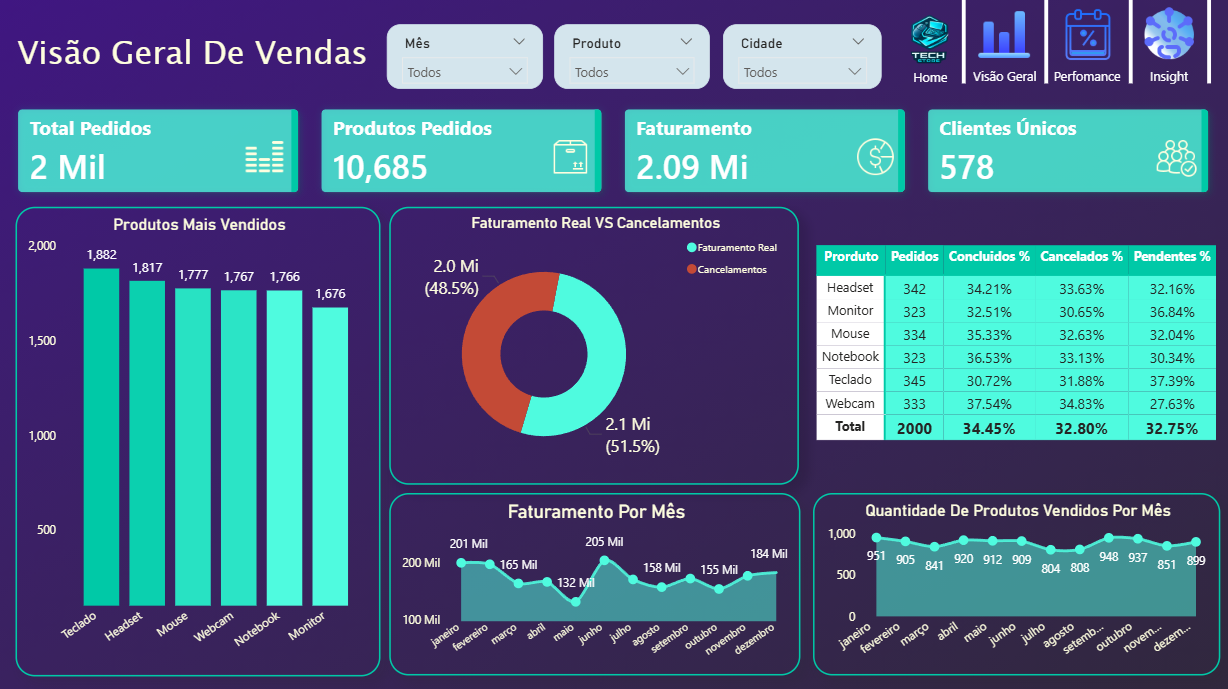

This screenshot's page, from the dashboard's own definition file:
{"tool":"powerbi","page":{"name":"Visao Geral","canvas":[1280,720],"ordinal":1},"visuals":[{"type":"image","box":[778.4,0,379.6,89.2],"z":0,"group":"g2"},{"type":"group","id":"g1","title":"Grupo 2","box":[404.1,27,535.1,67.6],"z":0,"group":"g3"},{"type":"slicer","fields":{"Values":["dados_vendas_2000.data.Variation.Hierarquia de datas.Mês"]},"box":[404.1,27,162.3,67.6],"z":0,"group":"g1"},{"type":"columnChart","title":"Produtos Mais Vendidos","fields":{"Category":["dados_vendas_2000.produto"],"Y":["Tabela.quantidade_vendas_produto"]},"box":[18.8,216.3,378.8,487.7],"z":0},{"type":"image","box":[1013.4,0,64.8,75.7],"z":1000,"group":"g2"},{"type":"slicer","fields":{"Values":["dados_vendas_2000.cidade"]},"box":[752.9,27,165,66.8],"z":1000,"group":"g1"},{"type":"donutChart","title":"Faturamento Real VS Cancelamentos","fields":{"Y":["Tabela.faturamento","Tabela.faturamento_perdido"]},"box":[407.1,216.3,425.9,288.8],"z":1000},{"type":"shape","box":[983.7,0,40.5,89.2],"z":2000,"group":"g2"},{"type":"slicer","fields":{"Values":["dados_vendas_2000.produto"]},"box":[577.6,27,161.6,66.8],"z":2000,"group":"g1"},{"type":"lineChart","title":"Quantidade De Produtos Vendidos Por Mês","fields":{"Category":["dados_vendas_2000.data.Variation.Hierarquia de datas.Mês"],"Y":["Tabela.quantidade_vendas_produto"]},"box":[846.4,514.5,423.2,189.4],"z":2000},{"type":"shape","box":[1068.8,0,40.5,89.2],"z":3000,"group":"g2"},{"type":"lineChart","title":"Faturamento Por Mês","fields":{"Category":["dados_vendas_2000.data.Variation.Hierarquia de datas.Mês"],"Y":["Tabela.faturamento"]},"box":[407.1,514.5,427.2,189.4],"z":3000},{"type":"image","box":[1099.9,0,64.8,75.7],"z":4000,"group":"g2"},{"type":"barChart","fields":{"Category":["dados_vendas_2000.cidade"],"Y":["Tabela.quantidade_vendas"]},"box":[64,740,472,440],"z":4000},{"type":"shape","box":[1157.3,0,39.4,88.7],"z":5000,"group":"g2"},{"type":"barChart","fields":{"Category":["dados_vendas_2000.cidade"],"Y":["Tabela.quantidade_vendas_produto"]},"box":[620,740,472,440],"z":5000},{"type":"shape","box":[939.1,64.9,59.4,33.8],"z":6000,"group":"g2"},{"type":"columnChart","fields":{"Category":["dados_vendas_2000.cidade"],"Y":["Tabela.taxa_cancelados"]},"box":[84,1260,564,336],"z":6000},{"type":"shape","box":[1091.1,57.7,81.7,46.5],"z":7000,"group":"g2"},{"type":"columnChart","fields":{"Category":["dados_vendas_2000.cidade"],"Y":["Tabela.taxa_concluidos"]},"box":[674,1260,516,304],"z":7000},{"type":"image","box":[1185.4,0,64.8,76.1],"z":8000,"group":"g2"},{"type":"columnChart","fields":{"Category":["dados_vendas_2000.cidade"],"Y":["Tabela.taxa_pendente"]},"box":[84,1644,216,114],"z":8000},{"type":"shape","box":[0,16.2,404.1,83.8],"z":9000},{"type":"shape","box":[1177,57.7,80.3,46.5],"z":9000,"group":"g2"},{"type":"shape","box":[1253,0,12.7,88.7],"z":10000,"group":"g2"},{"type":"pivotTable","fields":{"Values":["Tabela.quantidade_vendas","Tabela.taxa_concluidos","Tabela.taxa_cancelados","Tabela.taxa_pendente"],"Rows":["dados_vendas_2000.produto"]},"box":[845,252.6,427.2,214.9],"z":10000},{"type":"cardVisual","fields":{"Data":["Tabela.quantidade_vendas","Tabela.quantidade_vendas_produto","Tabela.Faturamento","Tabela.cliente_unicos"]},"box":[0,94.6,1279.7,128.4],"z":11000},{"type":"group","id":"g2","title":"Grupo 3","box":[778.4,0,487.3,104.2],"z":12000},{"type":"image","box":[252.9,131.4,47.1,65.7],"z":13000},{"type":"image","box":[884.3,144.3,54.3,41.4],"z":14000},{"type":"image","box":[567.1,144.3,54.3,41.4],"z":15000},{"type":"image","box":[1197.1,144.3,54.3,41.4],"z":16000},{"type":"group","id":"g3","title":"Grupo 1","box":[404.1,27,535.1,67.6],"z":17000},{"type":"shape","box":[1005.6,57.7,81.7,46.5],"z":18000}]}

Visuals, with their boxes in screenshot pixels (x1, y1, x2, y2), scaled from the page's 1280x720 canvas onto the 1228x689 screenshot:
image: l=747, t=0, r=1111, b=85
"Grupo 2" group: l=388, t=26, r=901, b=91
slicer - dados_vendas_2000.data.Variation.Hierarquia de datas.Mês: l=388, t=26, r=543, b=91
"Produtos Mais Vendidos" columnChart: l=18, t=207, r=381, b=674
image: l=972, t=0, r=1034, b=72
slicer - dados_vendas_2000.cidade: l=722, t=26, r=881, b=90
"Faturamento Real VS Cancelamentos" donutChart: l=391, t=207, r=799, b=483
shape: l=944, t=0, r=983, b=85
slicer - dados_vendas_2000.produto: l=554, t=26, r=709, b=90
"Quantidade De Produtos Vendidos Por Mês" lineChart: l=812, t=492, r=1218, b=674
shape: l=1025, t=0, r=1064, b=85
"Faturamento Por Mês" lineChart: l=391, t=492, r=800, b=674
image: l=1055, t=0, r=1117, b=72
shape: l=1110, t=0, r=1148, b=85
shape: l=901, t=62, r=958, b=94
shape: l=1047, t=55, r=1125, b=100
image: l=1137, t=0, r=1199, b=73
shape: l=0, t=16, r=388, b=96
shape: l=1129, t=55, r=1206, b=100
shape: l=1202, t=0, r=1214, b=85
pivotTable - Tabela.quantidade_vendas x Tabela.taxa_concluidos: l=811, t=242, r=1221, b=447
cardVisual - Tabela.quantidade_vendas x Tabela.quantidade_vendas_produto: l=0, t=91, r=1227, b=213
"Grupo 3" group: l=747, t=0, r=1214, b=100
image: l=243, t=126, r=288, b=189
image: l=848, t=138, r=900, b=178
image: l=544, t=138, r=596, b=178
image: l=1148, t=138, r=1201, b=178
"Grupo 1" group: l=388, t=26, r=901, b=91
shape: l=965, t=55, r=1043, b=100
